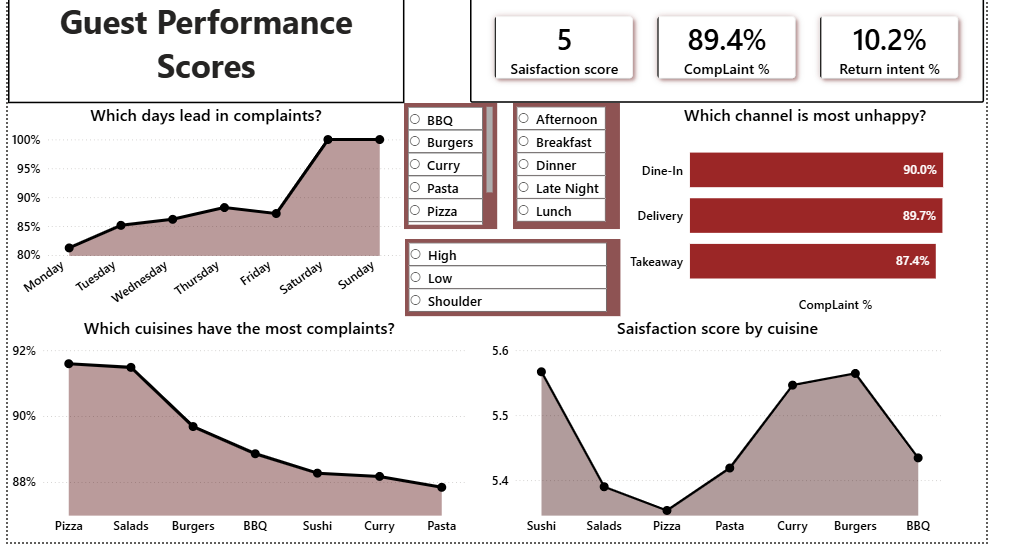

This screenshot's page, from the dashboard's own definition file:
{"tool":"powerbi","page":{"name":"performance scores","canvas":[1280,720],"ordinal":1},"visuals":[{"type":"cardVisual","fields":{"Data":["Hospitality_Dataset_Food_Service.Saisfaction score","Hospitality_Dataset_Food_Service.CompLaint %","Hospitality_Dataset_Food_Service.retun intent %"]},"box":[605.4,0,673,145.5],"z":0},{"type":"areaChart","title":"Which days lead in complaints?","fields":{"Category":["Hospitality_Dataset_Food_Service.day_of_week"],"Y":["Hospitality_Dataset_Food_Service.CompLaint %"]},"box":[0,145.5,518.7,279.2],"z":1000},{"type":"clusteredBarChart","title":"Which channel is most unhappy?","fields":{"Category":["Hospitality_Dataset_Food_Service.channel"],"Y":["Hospitality_Dataset_Food_Service.CompLaint %"]},"box":[808.2,145.5,471.7,279.2],"z":2000},{"type":"areaChart","title":"Which cuisines have the most complaints?","fields":{"Category":["Hospitality_Dataset_Food_Service.cuisine"],"Y":["Hospitality_Dataset_Food_Service.CompLaint %"]},"box":[0,424.7,605.4,295.3],"z":3000},{"type":"areaChart","fields":{"Y":["Hospitality_Dataset_Food_Service.Saisfaction score"],"Category":["Hospitality_Dataset_Food_Service.cuisine"]},"box":[628.9,424.7,601,295.3],"z":4000},{"type":"listSlicer","fields":{"Values":["Hospitality_Dataset_Food_Service.cuisine"]},"box":[518.7,145.5,122,164.6],"z":5000},{"type":"listSlicer","fields":{"Values":["Hospitality_Dataset_Food_Service.time_of_day"]},"box":[661.2,145.5,139.6,164.6],"z":6000},{"type":"listSlicer","fields":{"Values":["Hospitality_Dataset_Food_Service.season"]},"box":[520.2,323.3,282.1,101.4],"z":7000},{"type":"textbox","box":[0,2.9,518.7,142.5],"z":7001}]}

Visuals, with their boxes on the page's 1280x720 design canvas (x1, y1, x2, y2). These are canvas units, not pixel positions in the 1019x547 screenshot, which may show the page scaled, cropped or inside an application window:
cardVisual - Hospitality_Dataset_Food_Service.Saisfaction score x Hospitality_Dataset_Food_Service.CompLaint %: Rect(605, 0, 1278, 146)
"Which days lead in complaints?" areaChart: Rect(0, 146, 519, 425)
"Which channel is most unhappy?" clusteredBarChart: Rect(808, 146, 1280, 425)
"Which cuisines have the most complaints?" areaChart: Rect(0, 425, 605, 720)
areaChart - Hospitality_Dataset_Food_Service.Saisfaction score x Hospitality_Dataset_Food_Service.cuisine: Rect(629, 425, 1230, 720)
listSlicer - Hospitality_Dataset_Food_Service.cuisine: Rect(519, 146, 641, 310)
listSlicer - Hospitality_Dataset_Food_Service.time_of_day: Rect(661, 146, 801, 310)
listSlicer - Hospitality_Dataset_Food_Service.season: Rect(520, 323, 802, 425)
textbox: Rect(0, 3, 519, 145)
